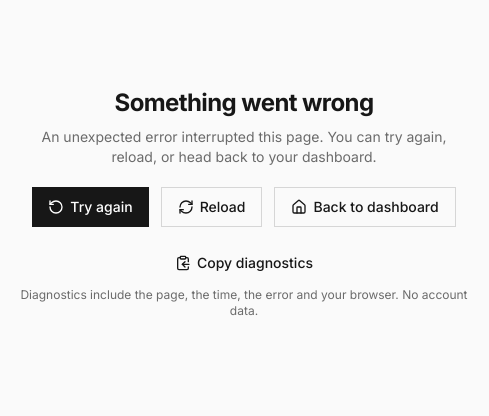
ErrorBoundary › falls back to a selectable textarea when the clipboard is unavailable
Click the button "Copy diagnostics" at (244, 263), box [163,247,325,279]
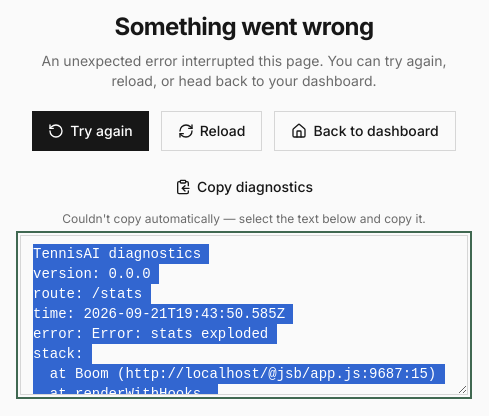
Now the text "select the text below and copy it" is shown, box [62,211,426,226]
